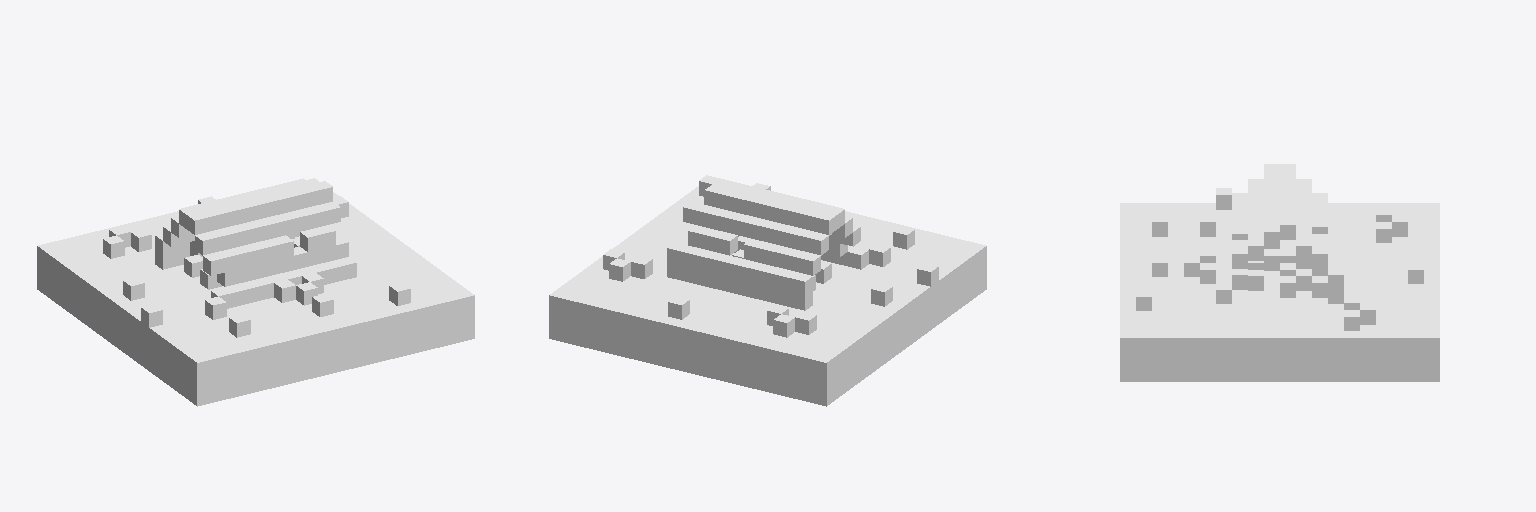
File: log.vox.obj
The picture shows the model from 3 angles: view 1: azimuth 30°, elevation 25°; view 2: azimuth 150°, elevation 25°; view 3: azimuth 270°, elevation 25°; orthographic projection.
Parts seen in each view (by area): view 1: object 1; view 2: object 1; view 3: object 1.
Boxes of the visible parts, x1=… form: object 1: x1=37, y1=178, x2=474, y2=406; object 1: x1=549, y1=175, x2=986, y2=406; object 1: x1=1120, y1=164, x2=1439, y2=381.
Size of the model in its own units: 2 by 0.8 by 2.